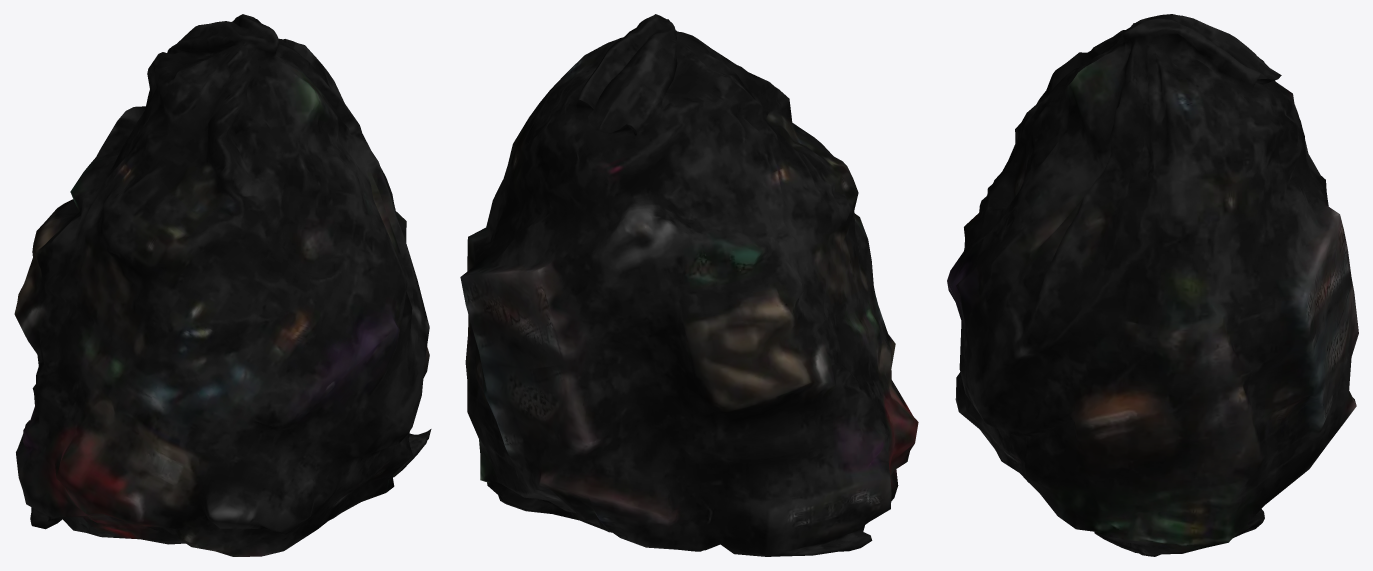
File: trashbag.glb
3 renders of one model, left to right at view 1: azimuth 30°, elevation 25°; view 2: azimuth 150°, elevation 25°; view 3: azimuth 270°, elevation 25°, orthographic. The views are drawn at different scales.
Visible parts, largest first — view 1: trashbag; view 2: trashbag; view 3: trashbag.
Part boxes in pixels (x1,y1,x2,y2): trashbag: (14, 14, 431, 556); trashbag: (460, 14, 918, 556); trashbag: (947, 14, 1358, 556).
Size of the model in its own units: 0.528 by 0.575 by 0.4629.
1 material, 1 textured.
